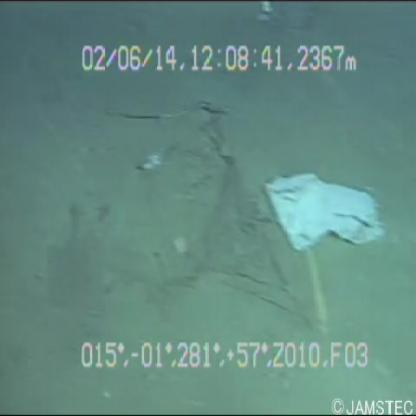Rác: (250, 158, 392, 265)
